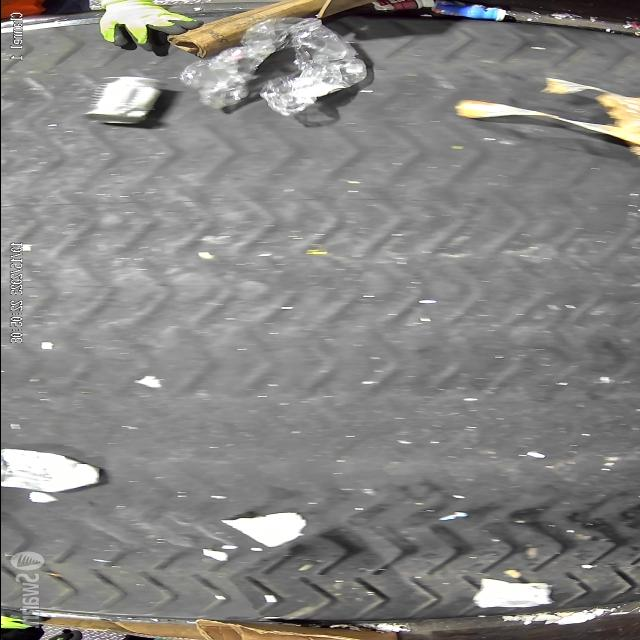can: (83, 74, 167, 136)
